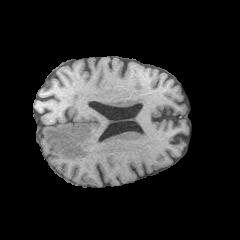glioma: (44, 125, 91, 159)
